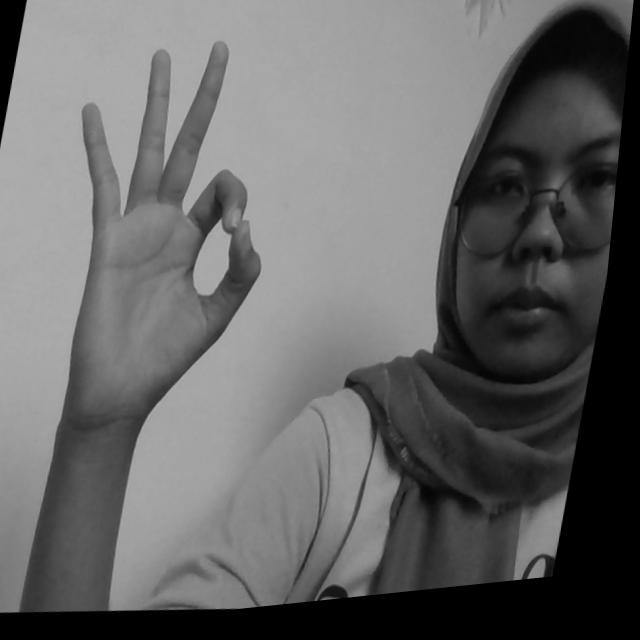F: (35, 28, 307, 438)
